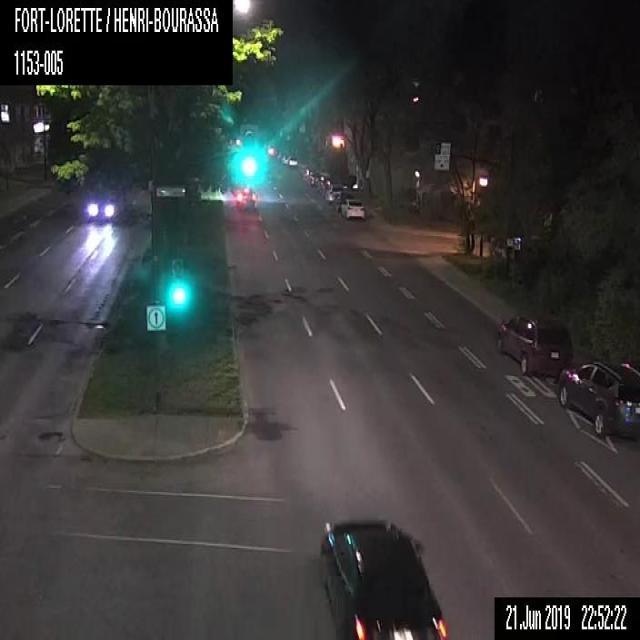pedestrian: (414, 173, 421, 204)
vehicle: (317, 516, 452, 639), (559, 358, 639, 443), (498, 312, 577, 378), (80, 198, 120, 223), (230, 186, 259, 210), (342, 196, 366, 221), (325, 181, 346, 203), (288, 156, 297, 167)
